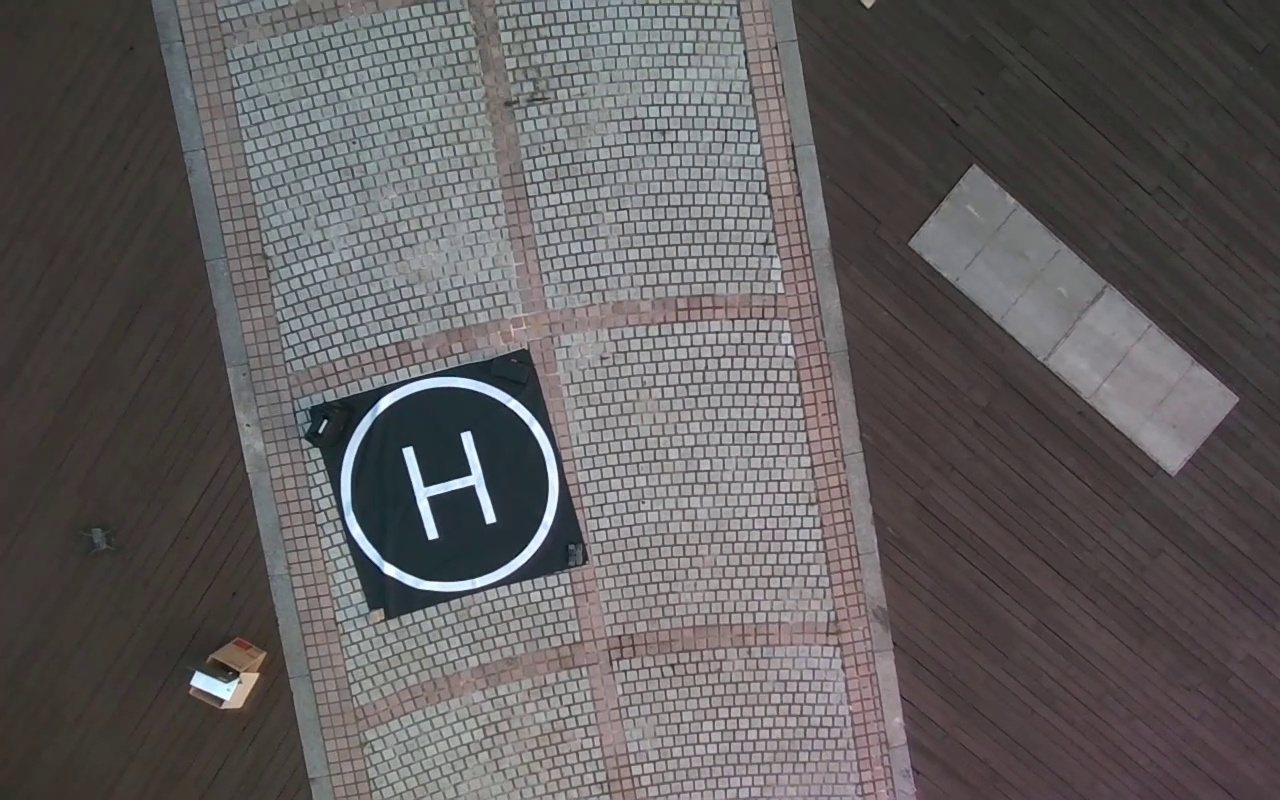H: (399, 428, 499, 540)
heliport: (341, 375, 561, 593)
